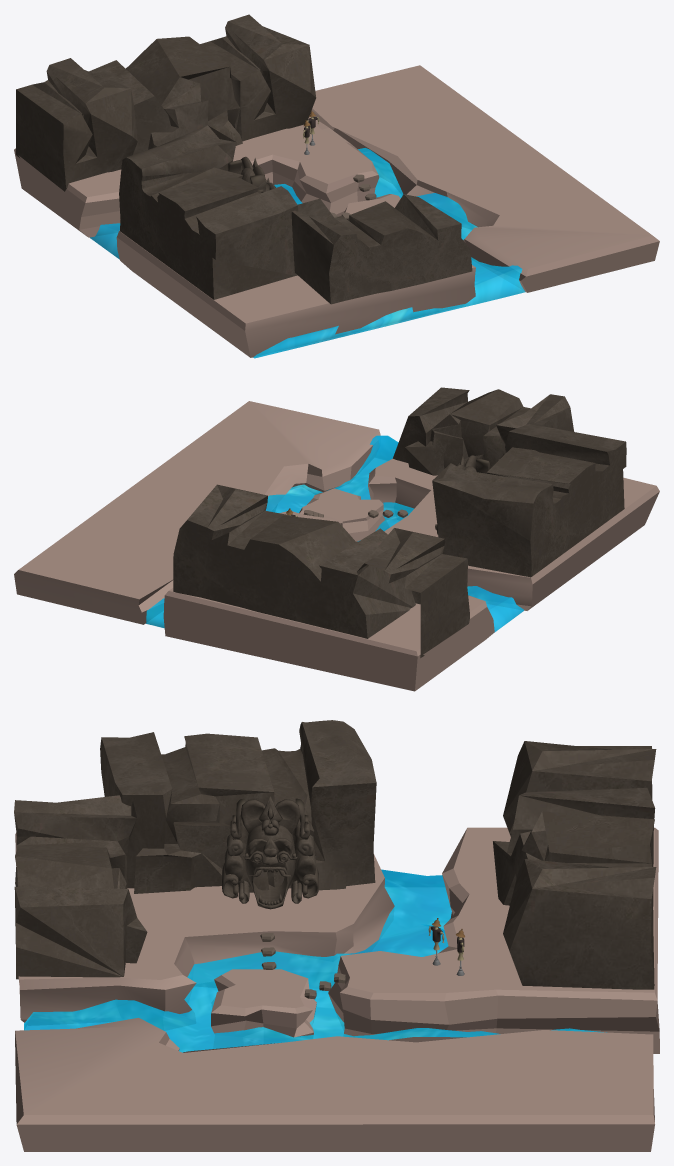
Rendered from Sugma.fbx.
The picture shows the model from 3 angles, top to bottom: view 1: azimuth 30°, elevation 25°; view 2: azimuth 150°, elevation 25°; view 3: azimuth 270°, elevation 25°; orthographic projection. The views are drawn at different scales.
Parts seen in each view (by area): view 1: Land 3, Cliff 3, Cliff 1, Cliff 2, Land, Land 2, Water, Statue, Land 4; view 2: Cliff 3, Land 3, Cliff 1, Land 2, Land, Cliff 2, Water, Land 4; view 3: Land 3, Cliff 3, Cliff 1, Land 2, Land, Cliff 2, Water, Statue, Land 4, Base.
Boxes of the visible parts, bbox=[...] form: Land 3: bbox=[310, 65, 659, 292]; Cliff 3: bbox=[16, 14, 316, 191]; Cliff 1: bbox=[119, 125, 298, 299]; Cliff 2: bbox=[291, 194, 472, 304]; Land: bbox=[116, 230, 475, 357]; Land 2: bbox=[14, 116, 379, 237]; Water: bbox=[90, 148, 525, 358]; Statue: bbox=[227, 156, 275, 192]; Land 4: bbox=[344, 194, 400, 214]; Cliff 3: bbox=[173, 484, 469, 658]; Land 3: bbox=[14, 401, 380, 624]; Cliff 1: bbox=[432, 424, 626, 577]; Land 2: bbox=[163, 511, 494, 691]; Land: bbox=[368, 458, 659, 610]; Cliff 2: bbox=[393, 387, 574, 475]; Water: bbox=[146, 435, 523, 631]; Land 4: bbox=[299, 488, 387, 541]; Land 3: bbox=[15, 1017, 654, 1151]; Cliff 3: bbox=[493, 741, 656, 989]; Cliff 1: bbox=[100, 720, 376, 893]; Land 2: bbox=[328, 827, 659, 1053]; Land: bbox=[15, 833, 394, 1028]; Cliff 2: bbox=[14, 795, 147, 979]; Water: bbox=[24, 869, 606, 1052]; Statue: bbox=[222, 796, 318, 909]; Land 4: bbox=[211, 969, 316, 1048]; Base: bbox=[26, 888, 450, 1049].
Bounding box in the file's own units: 4054 × 1164 × 4032.
